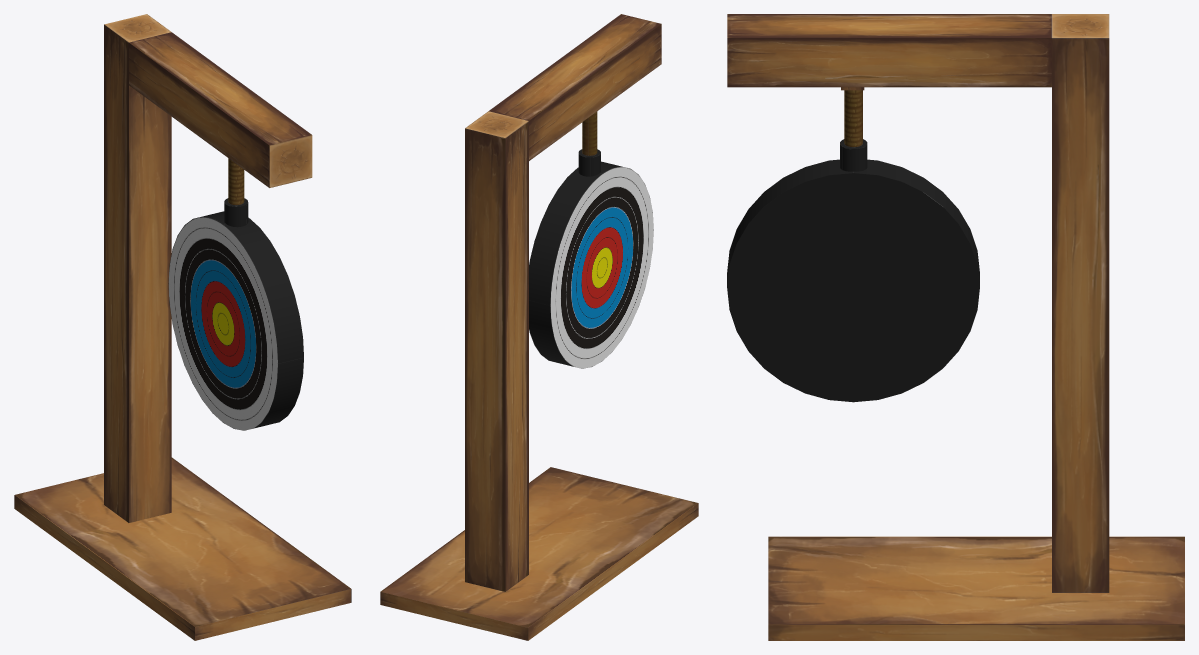
Rendered from Target - Sketchfab.fbx.
3 renders of one model, left to right at view 1: azimuth 30°, elevation 25°; view 2: azimuth 150°, elevation 25°; view 3: azimuth 270°, elevation 25°, orthographic. The views are drawn at different scales.
Visible parts, largest first — view 1: Cube, Cylinder; view 2: Cube, Cylinder; view 3: Cube, Cylinder.
Part boxes in pixels (x1,y1,x2,y2): Cube: (14, 14, 351, 640); Cylinder: (168, 158, 303, 430); Cube: (380, 14, 698, 640); Cylinder: (529, 111, 653, 368); Cube: (727, 14, 1184, 640); Cylinder: (727, 90, 979, 402).
Size of the model in its own units: 184 by 556 by 404.
